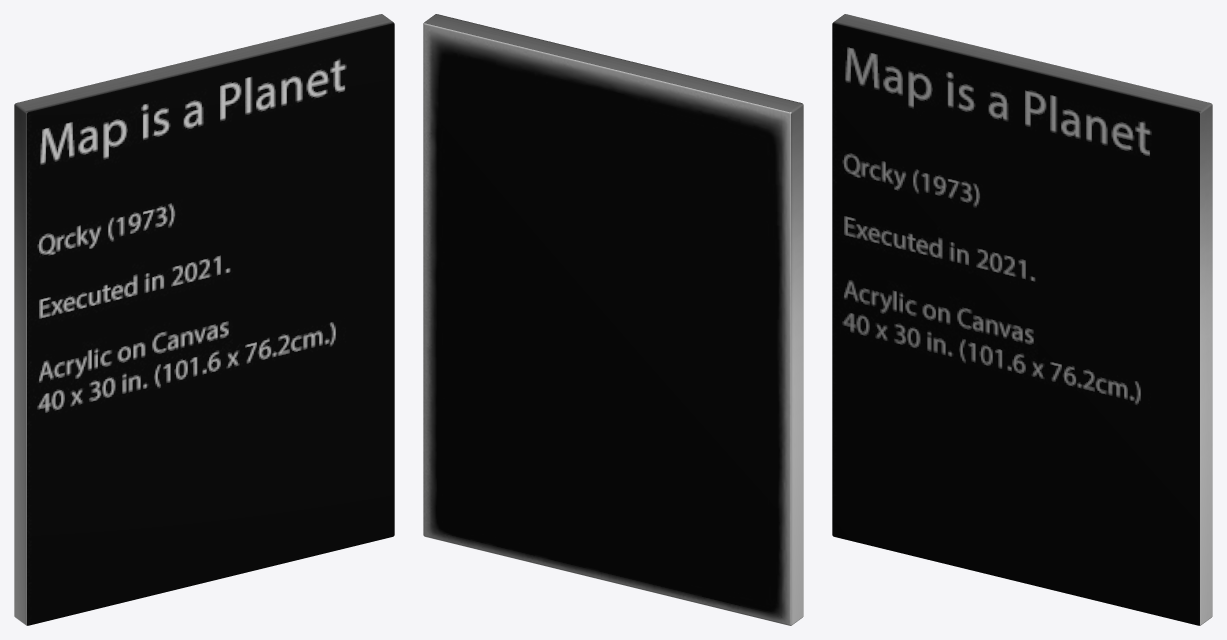
File: maps_planet.glb
3 renders of one model, left to right at view 1: azimuth 30°, elevation 25°; view 2: azimuth 150°, elevation 25°; view 3: azimuth 330°, elevation 25°, orthographic.
Parts seen in each view (by area): view 1: Canvas; view 2: Canvas; view 3: Canvas.
Boxes of the visible parts, bbox=[...] form: Canvas: bbox=[14, 14, 394, 625]; Canvas: bbox=[423, 14, 803, 625]; Canvas: bbox=[832, 14, 1212, 625].
Bounding box in the file's own units: 1.56 × 2.08 × 0.0956.
1 material, 1 textured.
